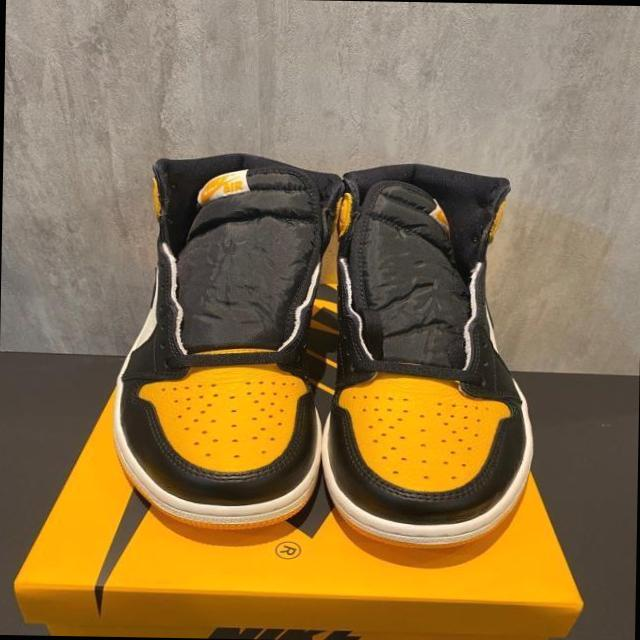nike_original_airforce: (102, 152, 360, 537), (316, 162, 544, 560)
